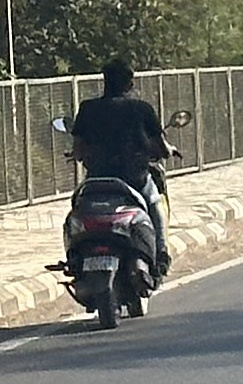BikeWithRider: (38, 50, 196, 333)
NoHelmet: (93, 52, 142, 102)
